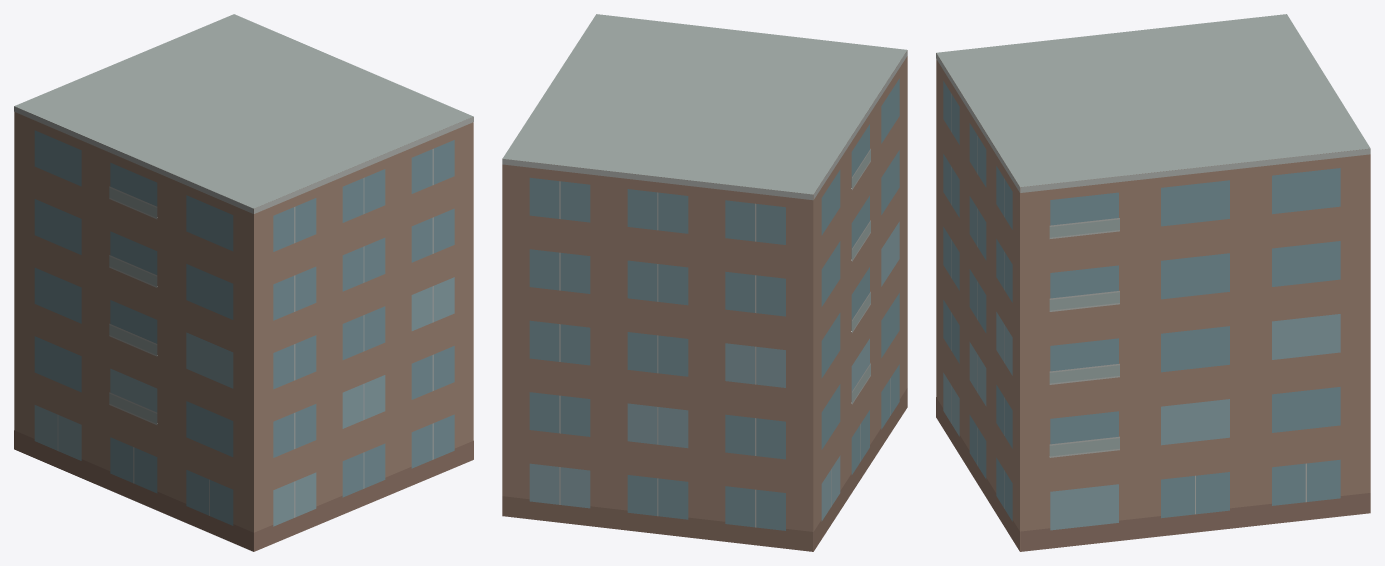
File: survey-upis-32713762.glb
The picture shows the model from 3 angles, left to right: view 1: azimuth 30°, elevation 25°; view 2: azimuth 150°, elevation 25°; view 3: azimuth 270°, elevation 25°; orthographic projection. The views are drawn at different scales.
Parts seen in each view (by area): view 1: survey-upis-32713762.tmp; view 2: survey-upis-32713762.tmp; view 3: survey-upis-32713762.tmp.
Part boxes in pixels (box(x1,y1,x2,y2)): survey-upis-32713762.tmp: box(14, 14, 473, 551); survey-upis-32713762.tmp: box(502, 14, 907, 551); survey-upis-32713762.tmp: box(936, 14, 1370, 551).
Bounding box in the file's own units: 15.55 × 15.25 × 16.48.
